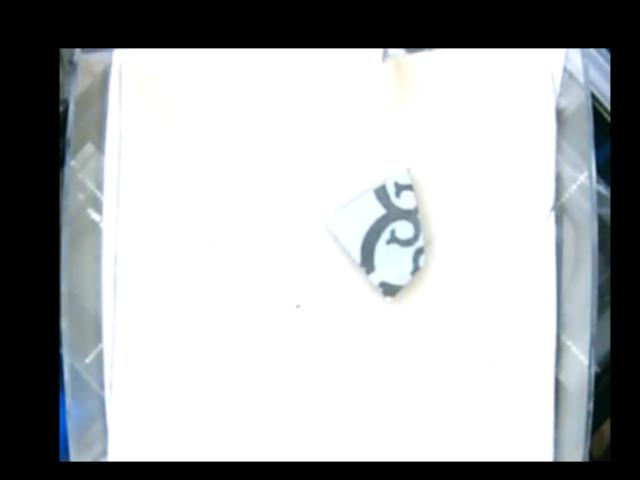China: (332, 167, 422, 302)
